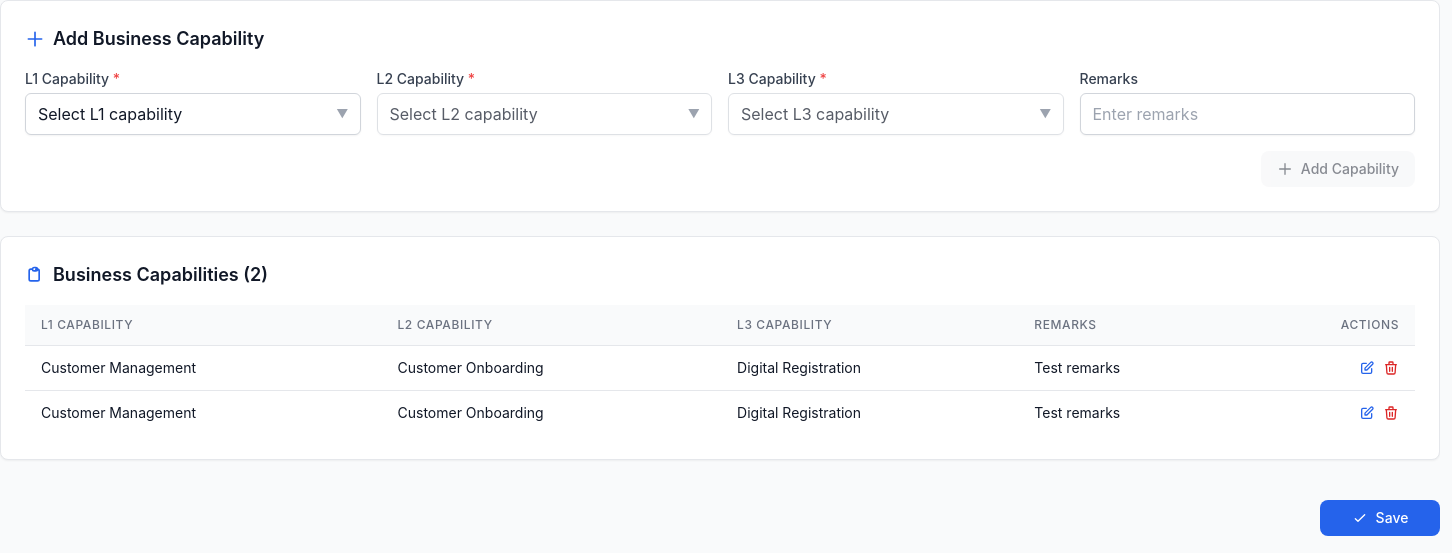
Test case: BusinessCapabilitiesStep › Delete Capability Functionality › updates count after deleting capability
Check: the text "Business Capabilities (2)" is shown, box [25,261,268,289]
What coordinates should you click on to do the following:
click the 1st button titled "Delete"
I would click on:
 (1391, 368)
Its box is [1383,360,1399,376].
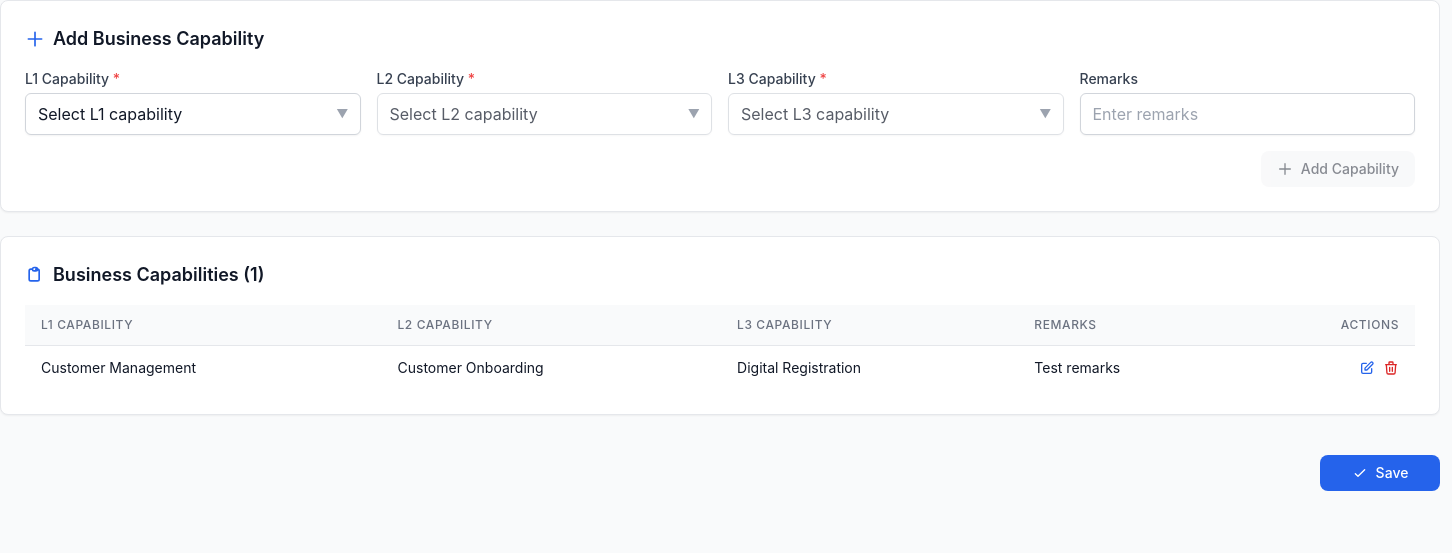
Check: the text "Business Capabilities (1)" is shown, box [25,261,264,289]
